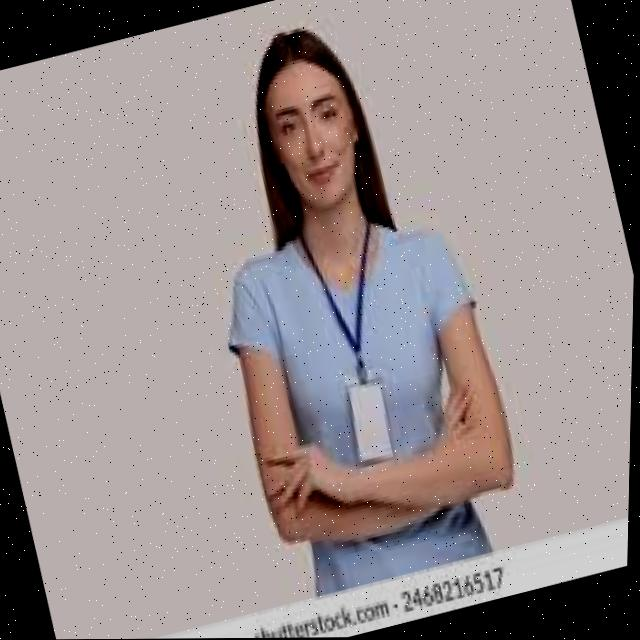id_card: (292, 214, 422, 474)
